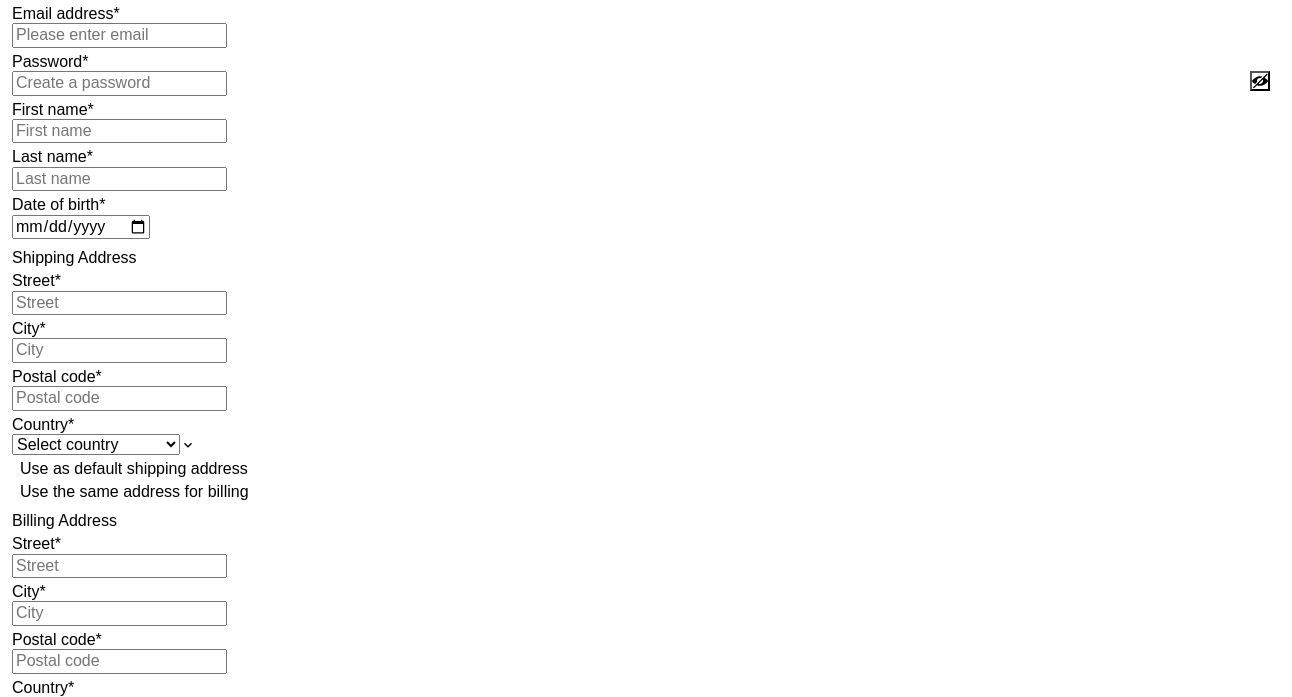
Test: SignUpForm › should say if password doesn't contain 8 characters or more
Type "Aa1@111" into the password field with placeholder "Create a password".
click(120, 83); type("Aa1@111")  # box [12,71,227,96]
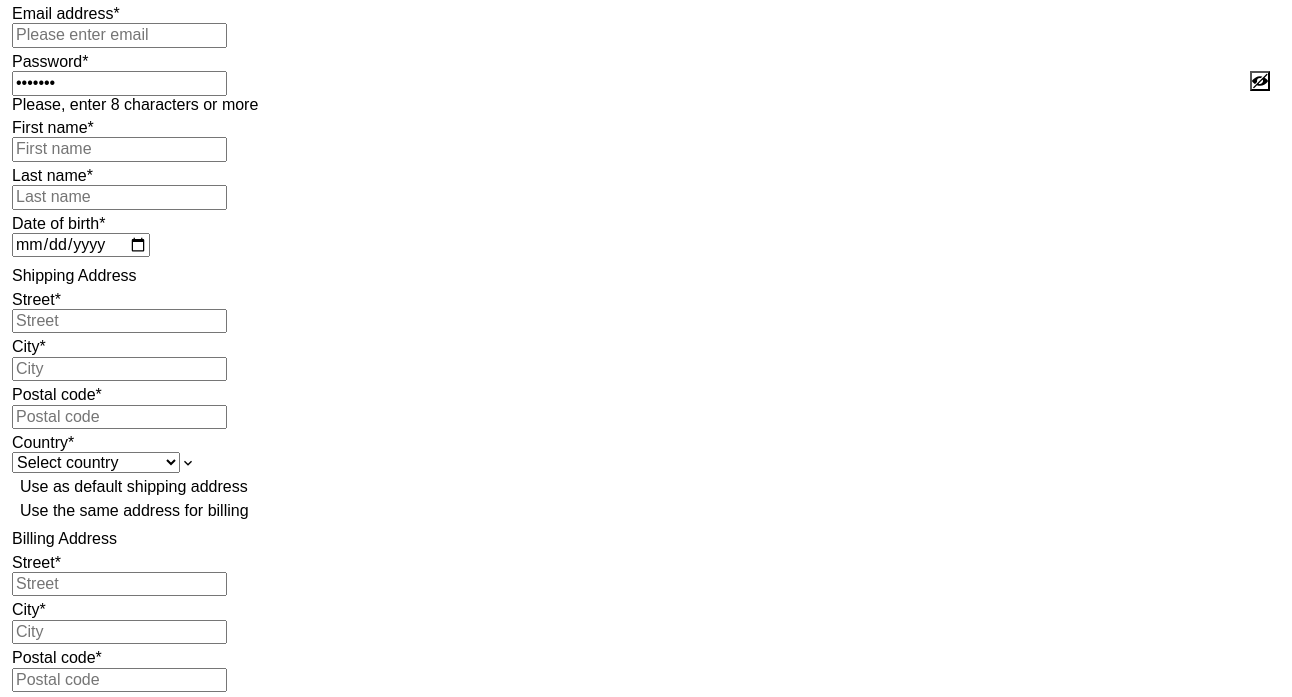
Expected: the text "Please, enter 8 characters or more" is shown, [12,96,258,113]
